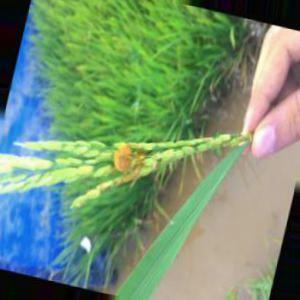Leaf_Scald: (110, 148, 148, 176)
